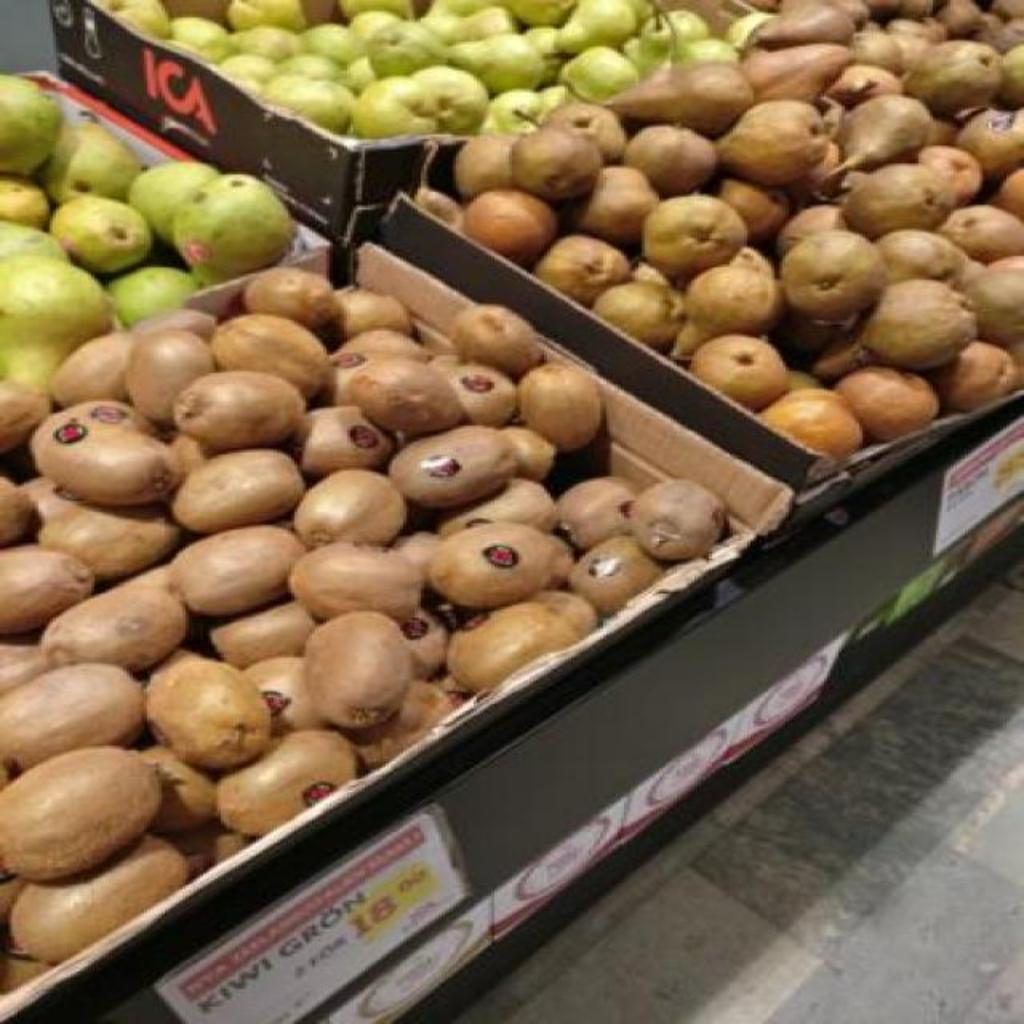kiwi: (8, 836, 187, 963), (0, 748, 157, 881), (32, 400, 181, 505), (0, 668, 144, 771), (147, 654, 269, 771), (219, 732, 357, 835), (40, 584, 187, 671), (304, 612, 413, 729), (168, 526, 307, 615), (448, 604, 579, 691), (427, 522, 555, 608), (37, 506, 181, 580), (173, 452, 304, 533), (291, 542, 424, 621), (176, 372, 307, 452), (389, 426, 517, 507), (211, 314, 331, 397), (293, 470, 408, 547), (349, 358, 461, 435), (125, 330, 213, 423), (0, 546, 93, 633), (520, 362, 603, 452), (632, 480, 725, 560), (568, 536, 661, 614), (211, 602, 317, 667), (437, 478, 557, 535), (448, 306, 544, 377), (139, 746, 216, 833), (301, 406, 395, 475), (245, 656, 328, 731), (51, 332, 128, 407), (557, 478, 637, 549), (245, 268, 336, 329), (445, 366, 517, 425), (336, 291, 413, 337), (400, 608, 448, 677), (499, 426, 557, 481), (336, 328, 427, 361), (0, 643, 51, 695)
